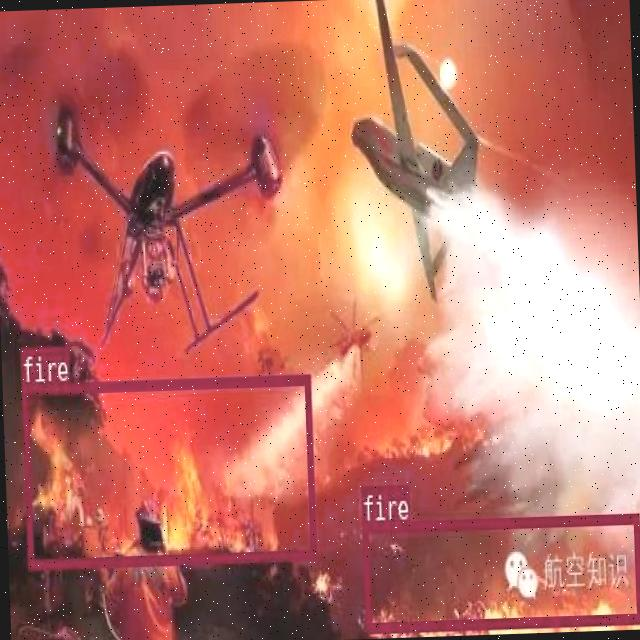fire: (21, 374, 314, 566), (361, 510, 640, 631)
